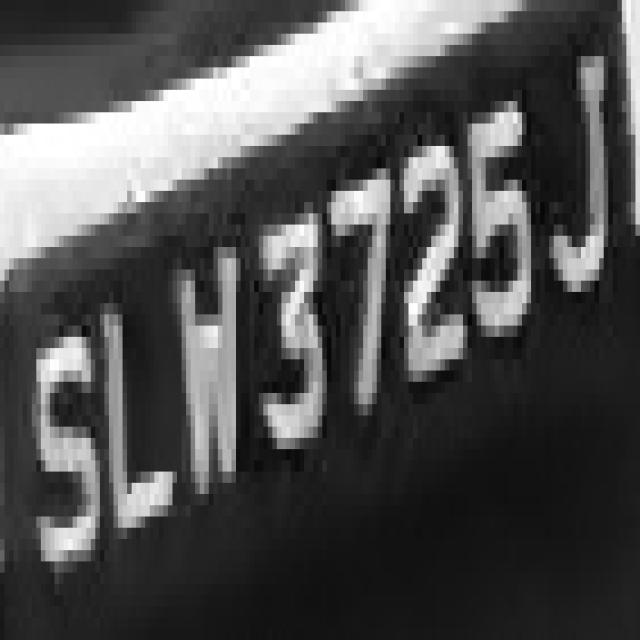2: (386, 135, 476, 415)
3: (236, 168, 336, 472)
5: (463, 56, 540, 359)
7: (313, 157, 395, 427)
J: (531, 22, 626, 326)
L: (91, 281, 177, 584)
S: (19, 281, 104, 584)
W: (159, 180, 259, 528)
